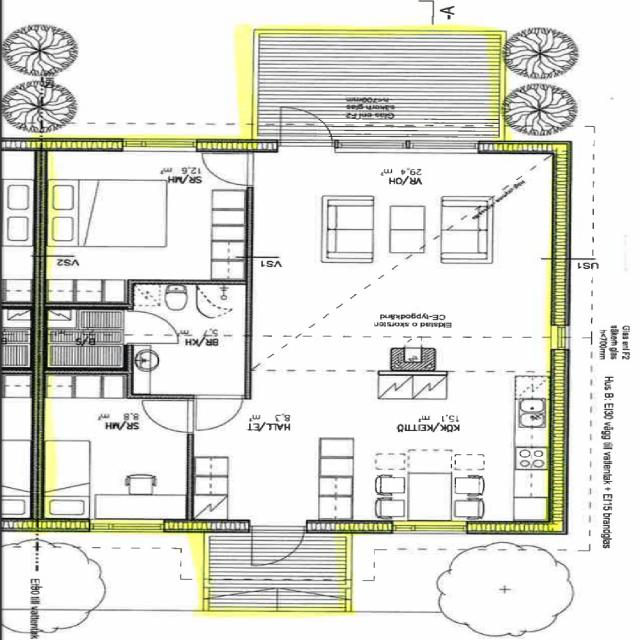door: (251, 521, 309, 574), (279, 100, 333, 152), (199, 154, 254, 187), (126, 310, 179, 342), (197, 394, 242, 431), (142, 400, 194, 432)
